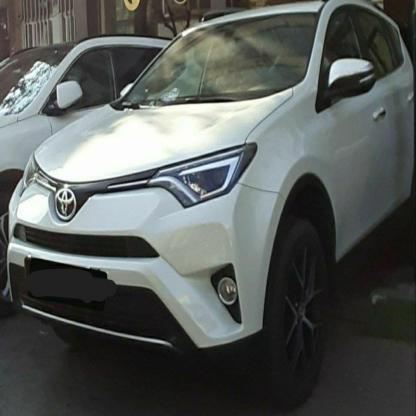Car: (7, 1, 416, 416), (0, 0, 145, 231)
